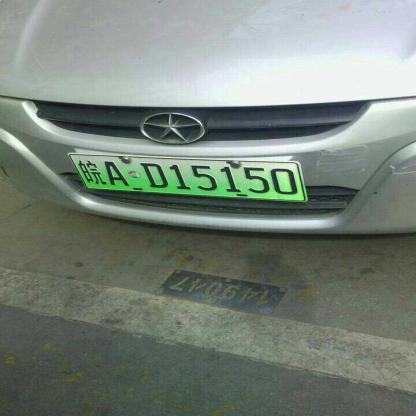lp: (69, 155, 306, 200)
